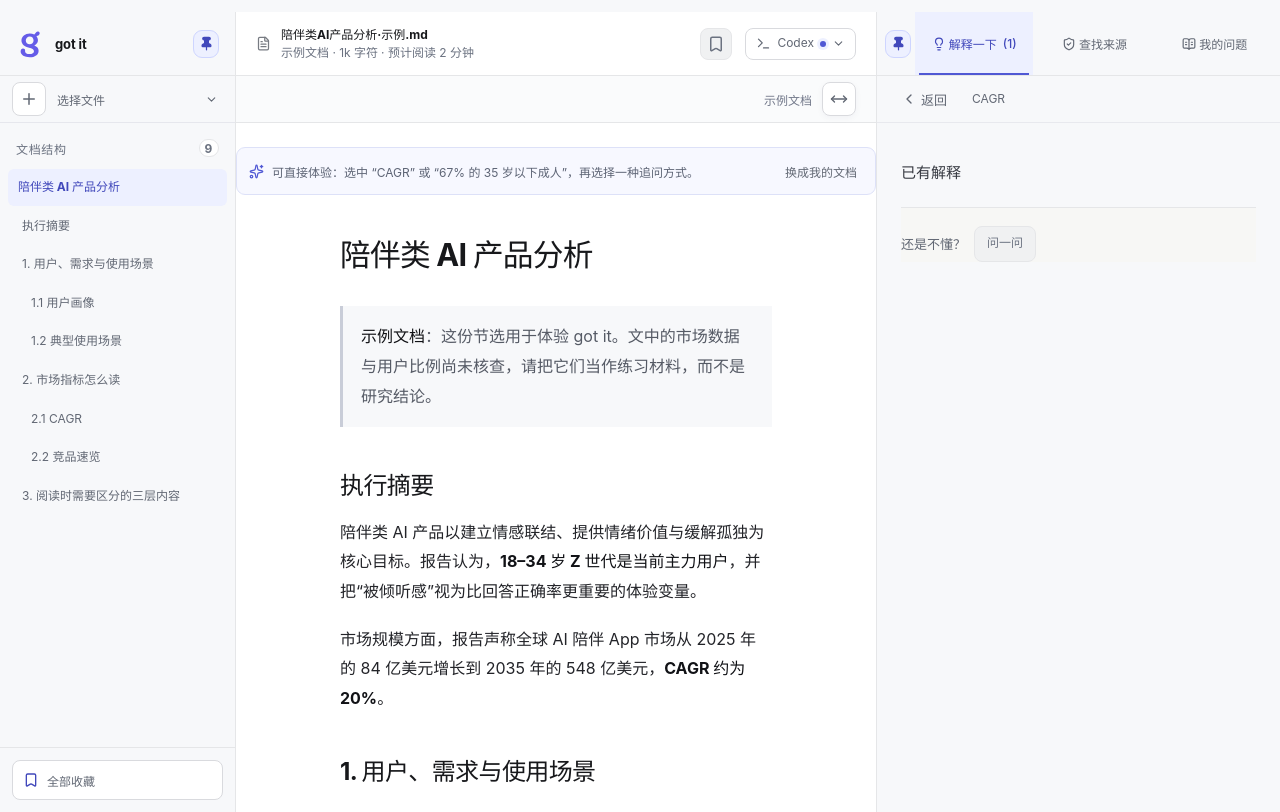
shows model controls inside the closed provider menu and exposes secondary actions alongside completion
This screenshot has width=1280, height=812.
Expected: the footer with class "compact-actions" shows "还是不懂？", [901,236,966,252]
Click the button "返回" at (924, 99), box [901,83,947,115]
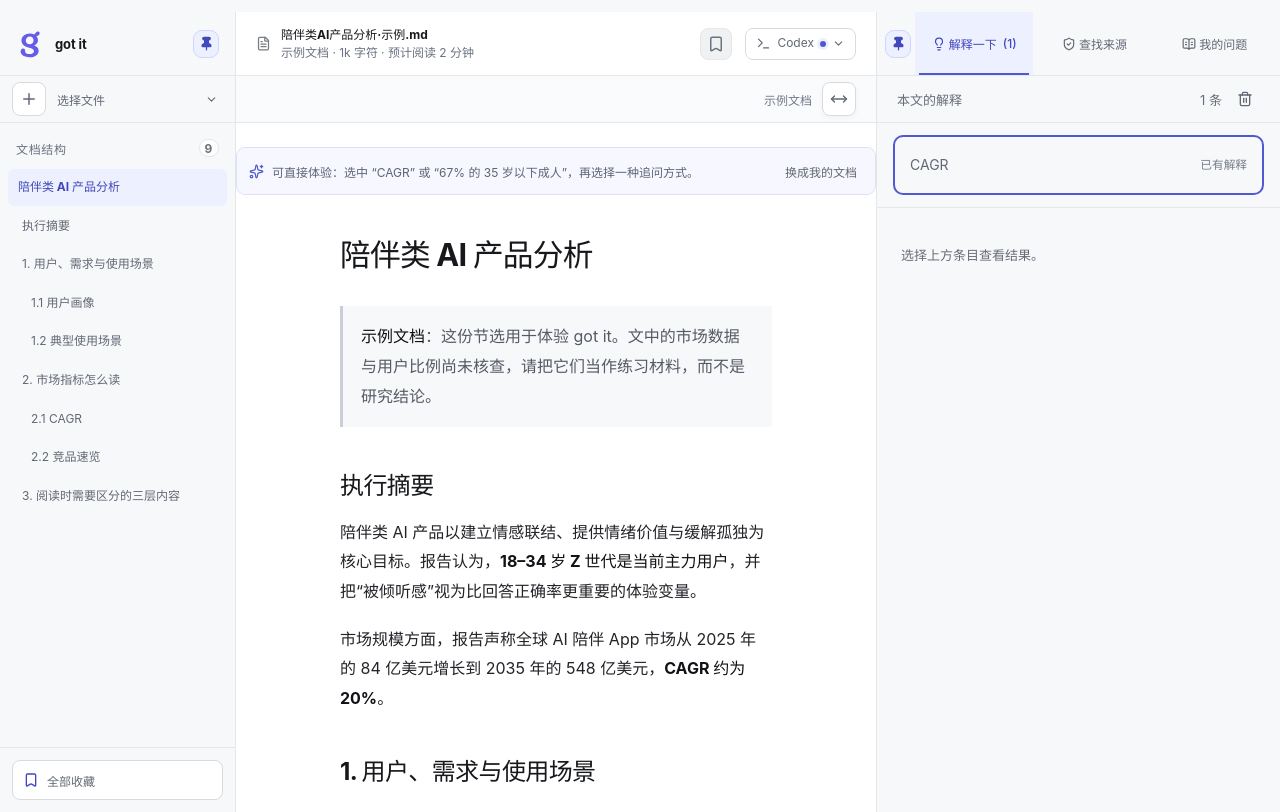
Expected: the element with class "answer-markdown" is gone
